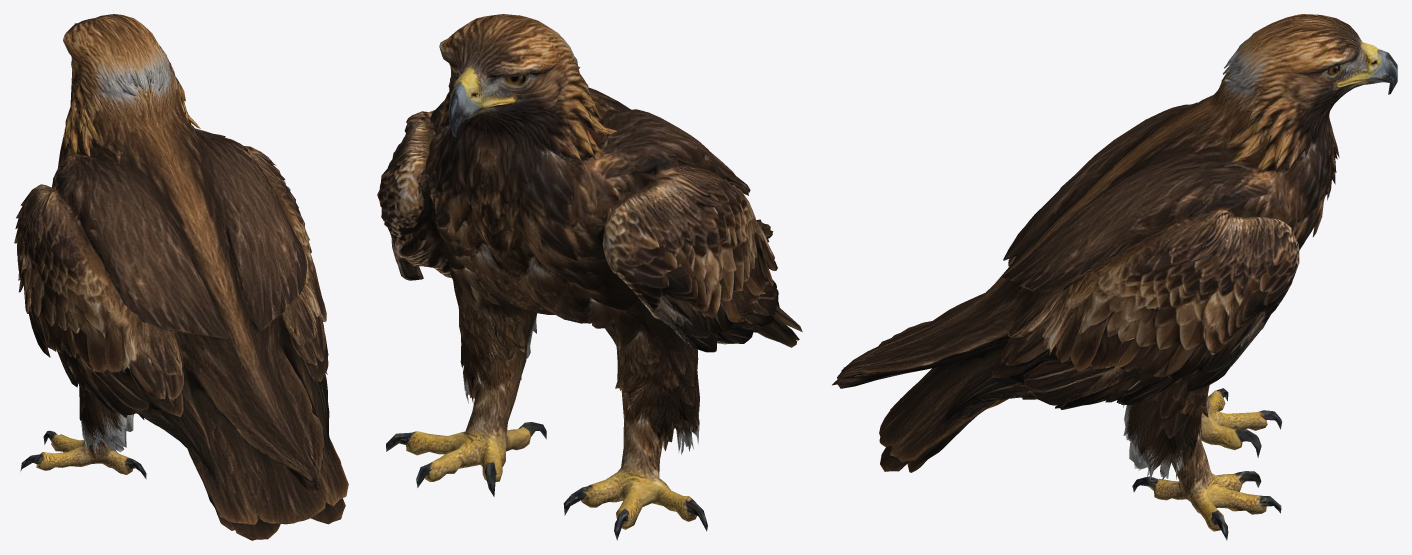
Rendered from eagle.glb.
The picture shows the model from 3 angles, left to right: view 1: azimuth 30°, elevation 25°; view 2: azimuth 150°, elevation 25°; view 3: azimuth 270°, elevation 25°; orthographic projection. The views are drawn at different scales.
Visible parts, largest first — view 1: tripo_node_a1d7010e-7813-4dce-9fc3-2d65c698406e; view 2: tripo_node_a1d7010e-7813-4dce-9fc3-2d65c698406e; view 3: tripo_node_a1d7010e-7813-4dce-9fc3-2d65c698406e.
Boxes of the visible parts, x1,y1,x2,y2 form: tripo_node_a1d7010e-7813-4dce-9fc3-2d65c698406e: (14, 14, 348, 540); tripo_node_a1d7010e-7813-4dce-9fc3-2d65c698406e: (377, 14, 802, 540); tripo_node_a1d7010e-7813-4dce-9fc3-2d65c698406e: (832, 14, 1397, 540).
Size of the model in its own units: 0.5977 by 0.8829 by 1.
Materials: 1 (1 with a texture image).
